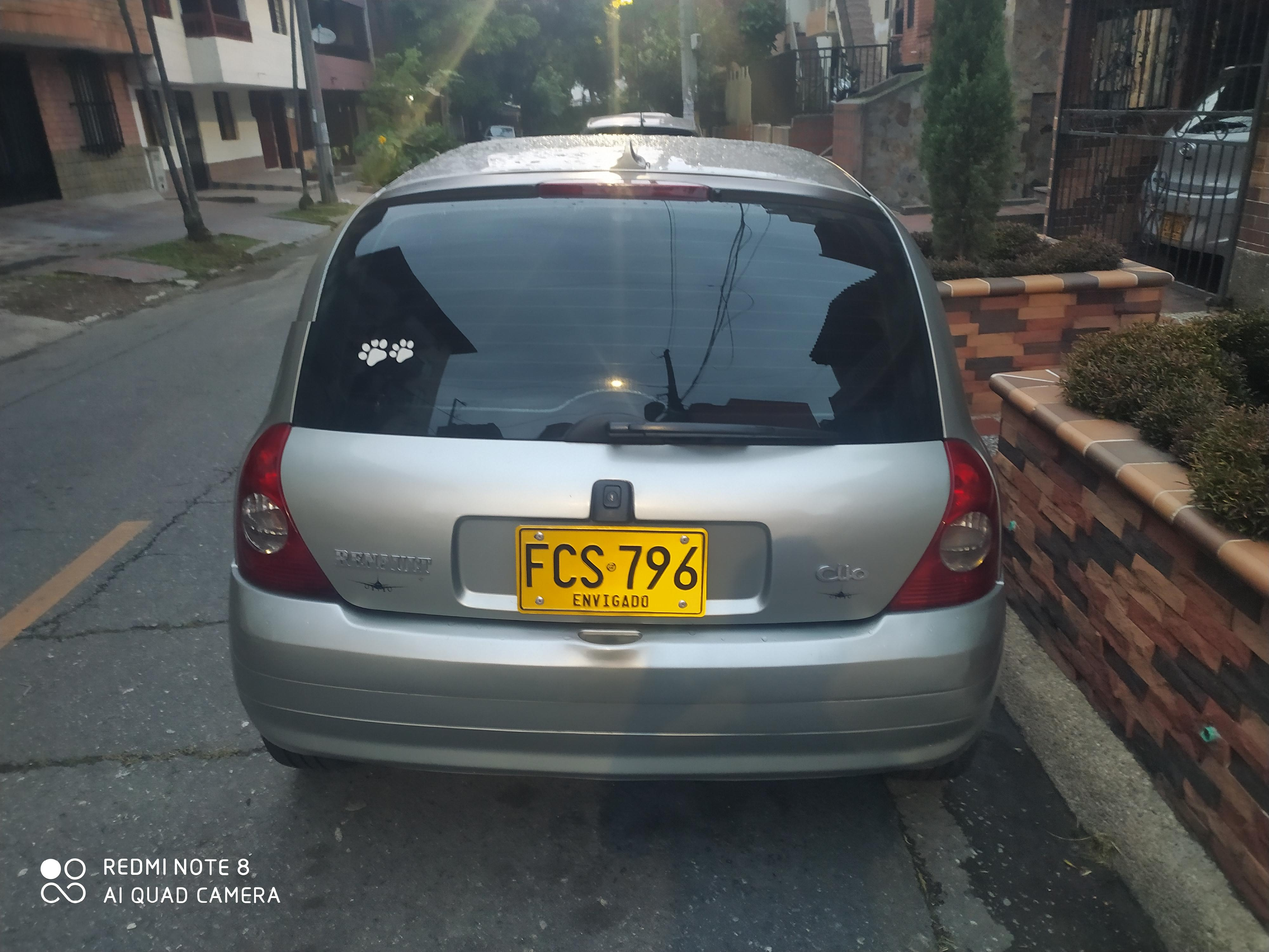placa: (505, 517, 714, 628)
